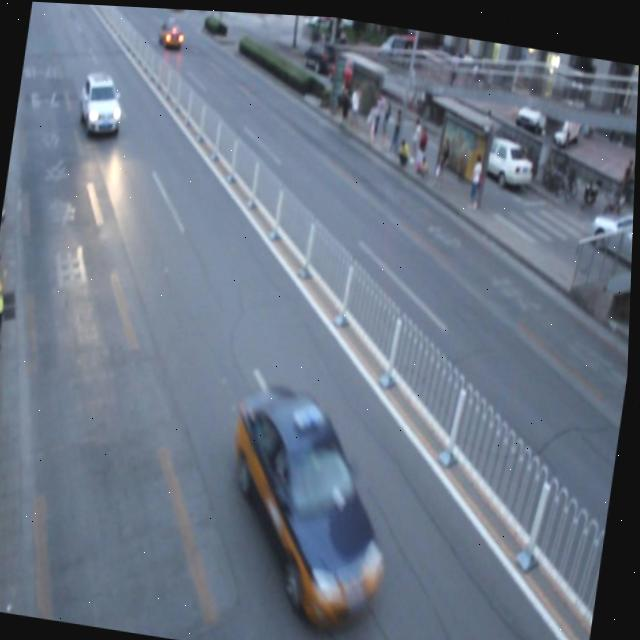car: (217, 381, 411, 629), (77, 66, 127, 137)
